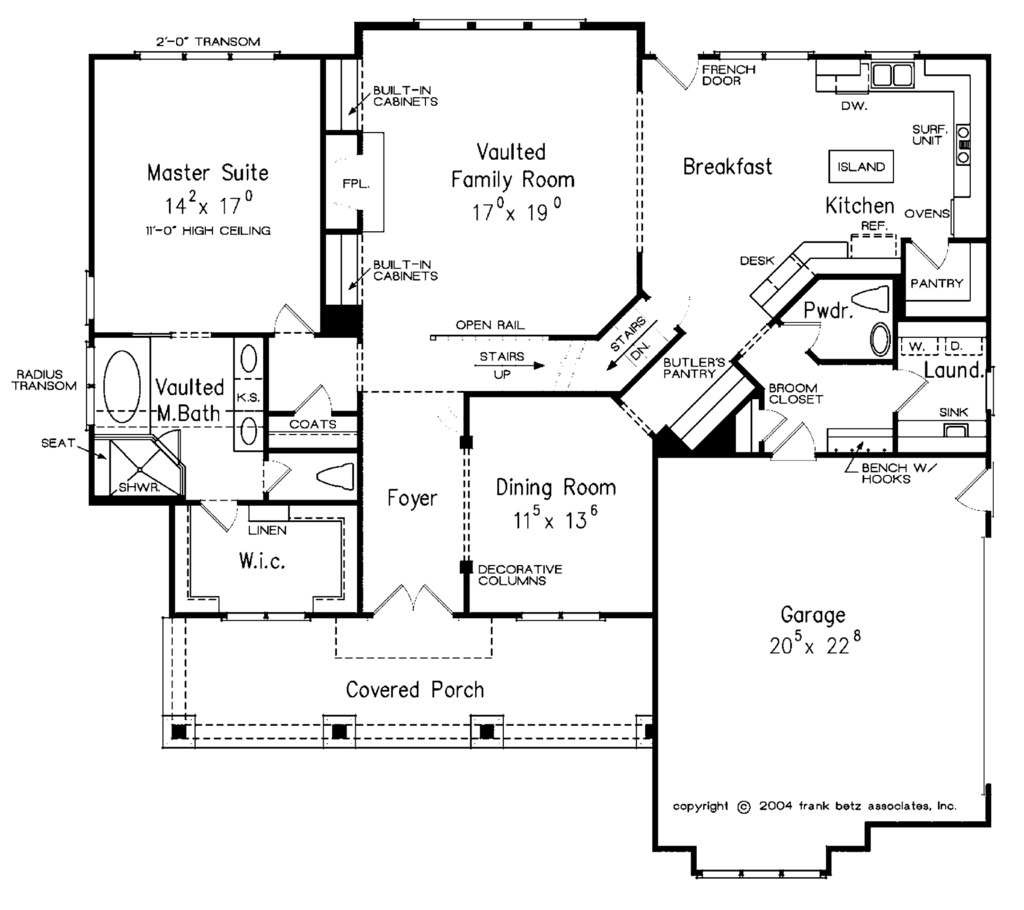door: (357, 581, 460, 617), (901, 234, 960, 279), (282, 382, 342, 424), (949, 465, 1001, 511), (197, 488, 249, 533), (257, 303, 319, 340), (770, 417, 820, 461), (743, 400, 788, 445), (894, 368, 935, 414), (261, 457, 291, 497)
large_sink: (830, 285, 899, 314), (318, 462, 361, 497)
small_sink: (225, 340, 271, 455), (866, 321, 891, 364)
twin_sink: (864, 52, 932, 97)
window: (130, 41, 282, 64), (699, 862, 828, 883), (82, 341, 94, 434), (82, 275, 102, 324)
